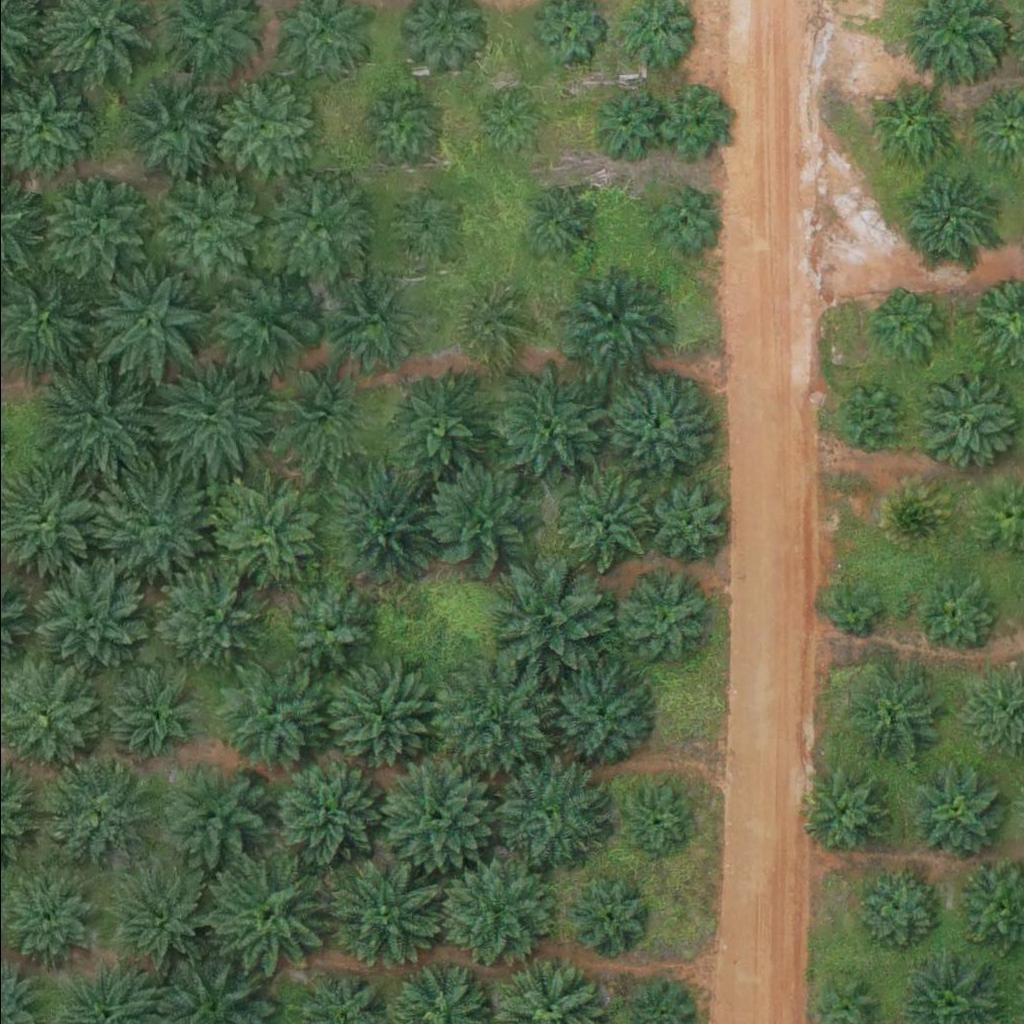Kelapa_Sawit: (548, 256, 674, 381), (82, 258, 208, 383), (487, 363, 613, 488), (417, 458, 543, 583), (484, 555, 610, 680), (425, 658, 551, 783), (260, 752, 386, 877), (318, 853, 444, 978), (203, 852, 329, 977), (319, 664, 433, 777), (34, 756, 148, 869), (204, 266, 317, 379), (150, 362, 263, 475), (215, 662, 328, 775), (97, 655, 210, 768), (149, 756, 262, 869), (438, 856, 551, 969), (38, 358, 151, 471), (381, 759, 495, 871), (102, 864, 216, 976), (264, 172, 377, 284), (149, 174, 262, 286), (378, 372, 491, 484), (262, 359, 375, 471), (325, 471, 438, 583), (206, 476, 319, 588), (96, 469, 209, 581), (151, 557, 264, 669), (497, 754, 610, 866), (35, 561, 148, 673), (33, 172, 146, 284), (896, 172, 997, 272), (609, 373, 710, 473), (795, 761, 895, 861), (845, 667, 945, 767), (913, 373, 1013, 473), (210, 77, 310, 177), (122, 76, 222, 176), (553, 472, 653, 572), (547, 662, 647, 762), (866, 82, 955, 170), (851, 866, 939, 954), (354, 84, 442, 172), (284, 586, 372, 674), (911, 771, 999, 858), (331, 281, 419, 368), (644, 478, 732, 565), (618, 572, 706, 659), (613, 783, 689, 858), (919, 577, 995, 652), (878, 481, 954, 556), (829, 379, 905, 454), (451, 287, 526, 362), (570, 880, 645, 955), (871, 289, 946, 364), (660, 79, 735, 154), (582, 83, 657, 158), (645, 181, 720, 256), (515, 184, 590, 259), (385, 190, 460, 265), (819, 579, 882, 641), (475, 89, 538, 151)
